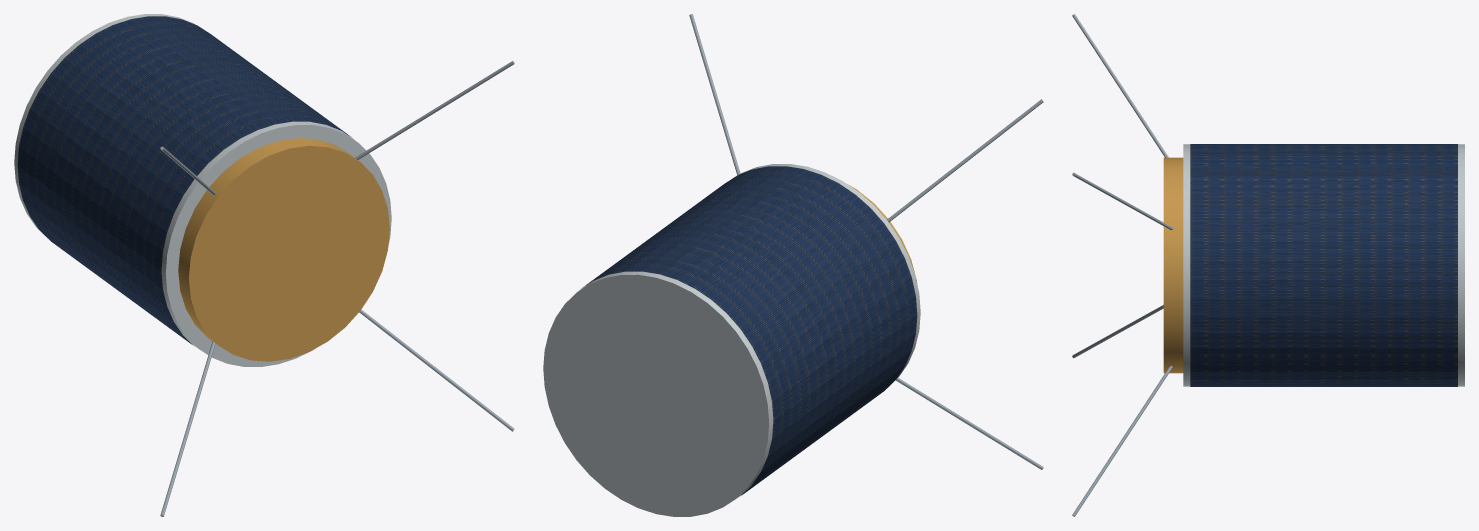
Rendered from ref-les-3431.glb.
The picture shows the model from 3 angles, left to right: view 1: azimuth 30°, elevation 25°; view 2: azimuth 150°, elevation 25°; view 3: azimuth 270°, elevation 25°; orthographic projection. The views are drawn at different scales.
Parts seen in each view (by area): view 1: Body-mounted solar cells, Despun equipment deck, Solar drum core, Whip antenna (×3); view 2: Body-mounted solar cells, Solar drum core, Whip antenna (×3); view 3: Body-mounted solar cells, Despun equipment deck, Solar drum core, Whip antenna (×3).
Boxes of the visible parts, bbox=[...] form: Body-mounted solar cells: bbox=[17, 16, 351, 346]; Despun equipment deck: bbox=[178, 138, 389, 361]; Solar drum core: bbox=[14, 14, 391, 366]; Whip antenna (×3): bbox=[160, 61, 514, 516]; Body-mounted solar cells: bbox=[581, 166, 917, 495]; Solar drum core: bbox=[543, 164, 920, 516]; Whip antenna (×3): bbox=[689, 14, 1043, 469]; Body-mounted solar cells: bbox=[1190, 144, 1457, 386]; Despun equipment deck: bbox=[1163, 157, 1183, 373]; Solar drum core: bbox=[1183, 144, 1464, 386]; Whip antenna (×3): bbox=[1072, 14, 1173, 516].
Size of the model in its own units: 1.88 by 1.88 by 1.94.
Materials: 4 (1 with a texture image).
